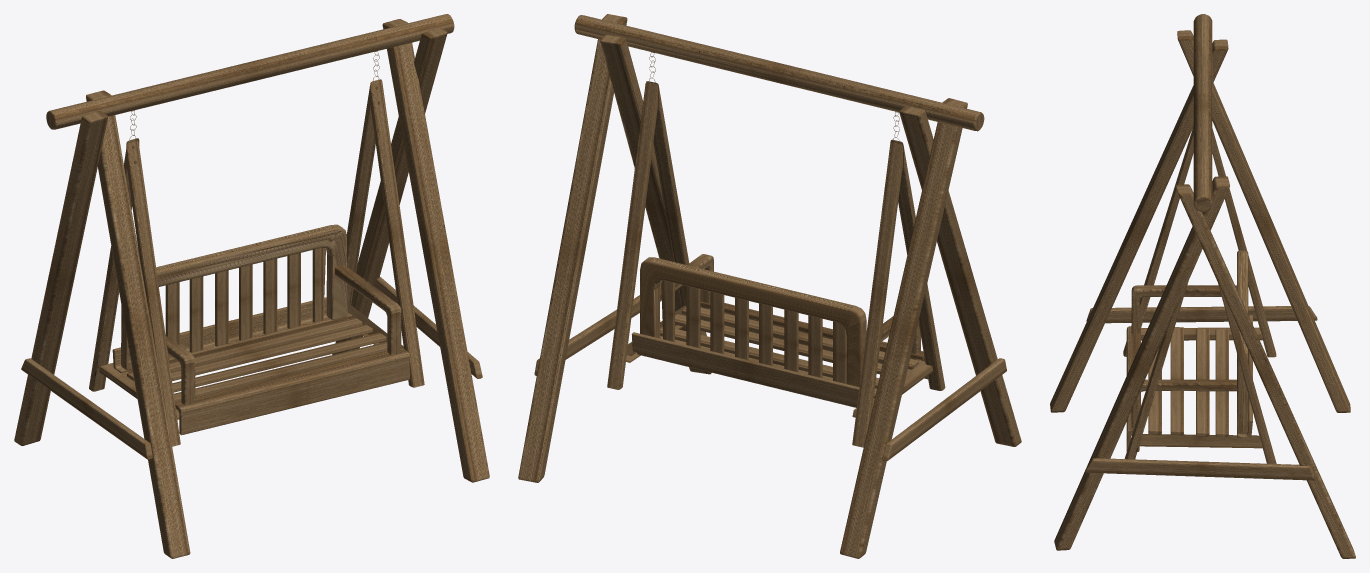
File: swing.FBX
3 renders of one model, left to right at view 1: azimuth 30°, elevation 25°; view 2: azimuth 150°, elevation 25°; view 3: azimuth 270°, elevation 25°, orthographic. The views are drawn at different scales.
Parts seen in each view (by area): view 1: swing02, swing04, swing003; view 2: swing04, swing02, swing003; view 3: swing04, swing02, swing003.
Boxes of the visible parts, x1,y1,x2,y2 form: swing02: (89,79,424,446); swing04: (14,19,489,558); swing003: (46,14,454,129); swing04: (518,14,1021,558); swing02: (607,81,945,447); swing003: (574,15,984,131); swing04: (1050,30,1355,558); swing02: (1123,126,1276,463); swing003: (1193,14,1212,212).
Size of the model in its own units: 39.04 by 37.18 by 27.66.
